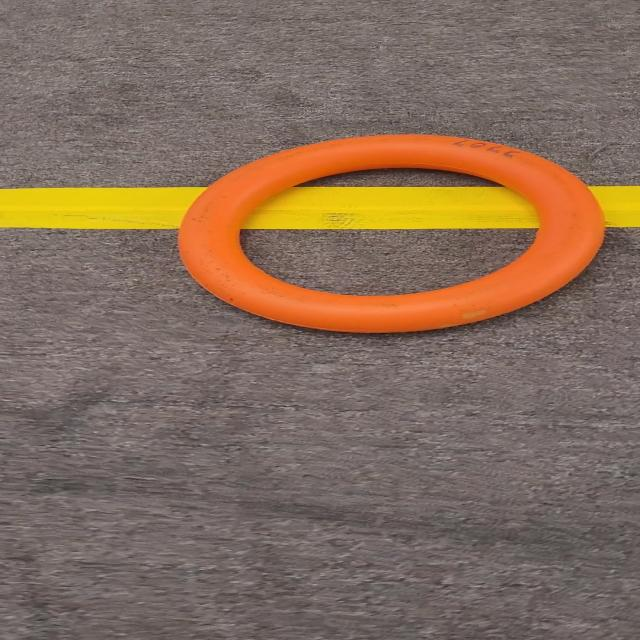note: (152, 126, 608, 341)
